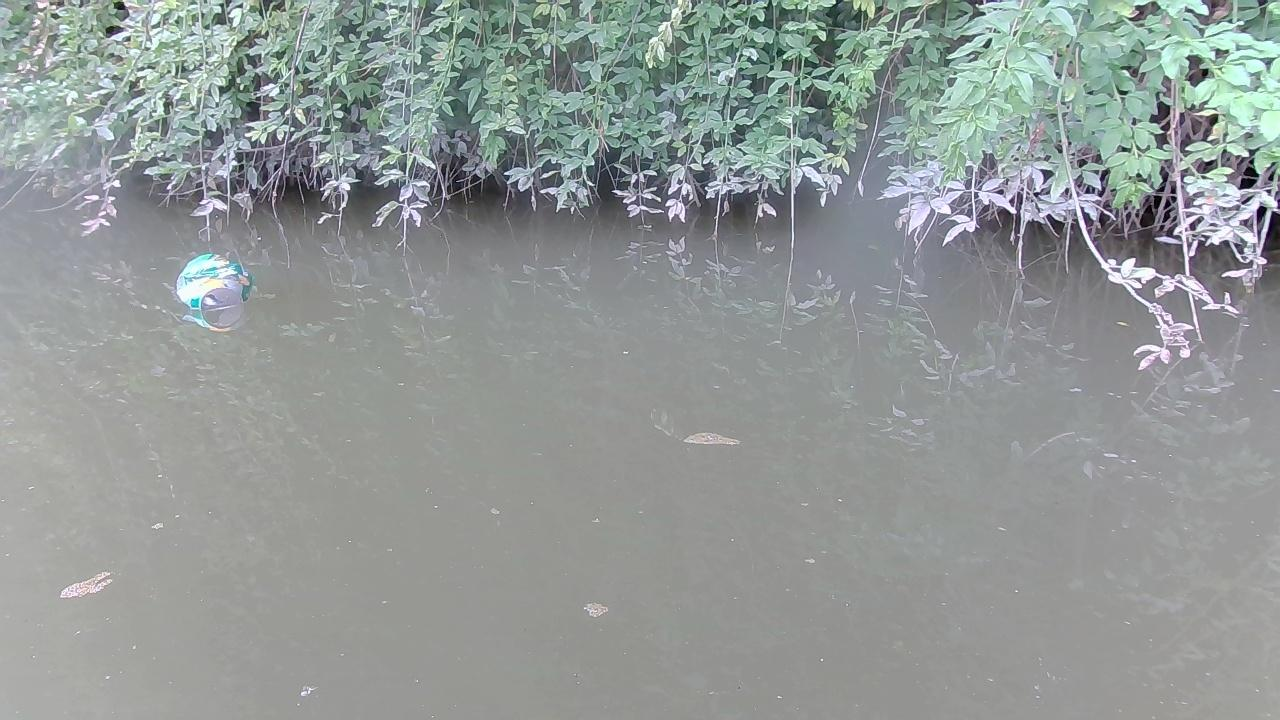bottle: (168, 252, 256, 334)
